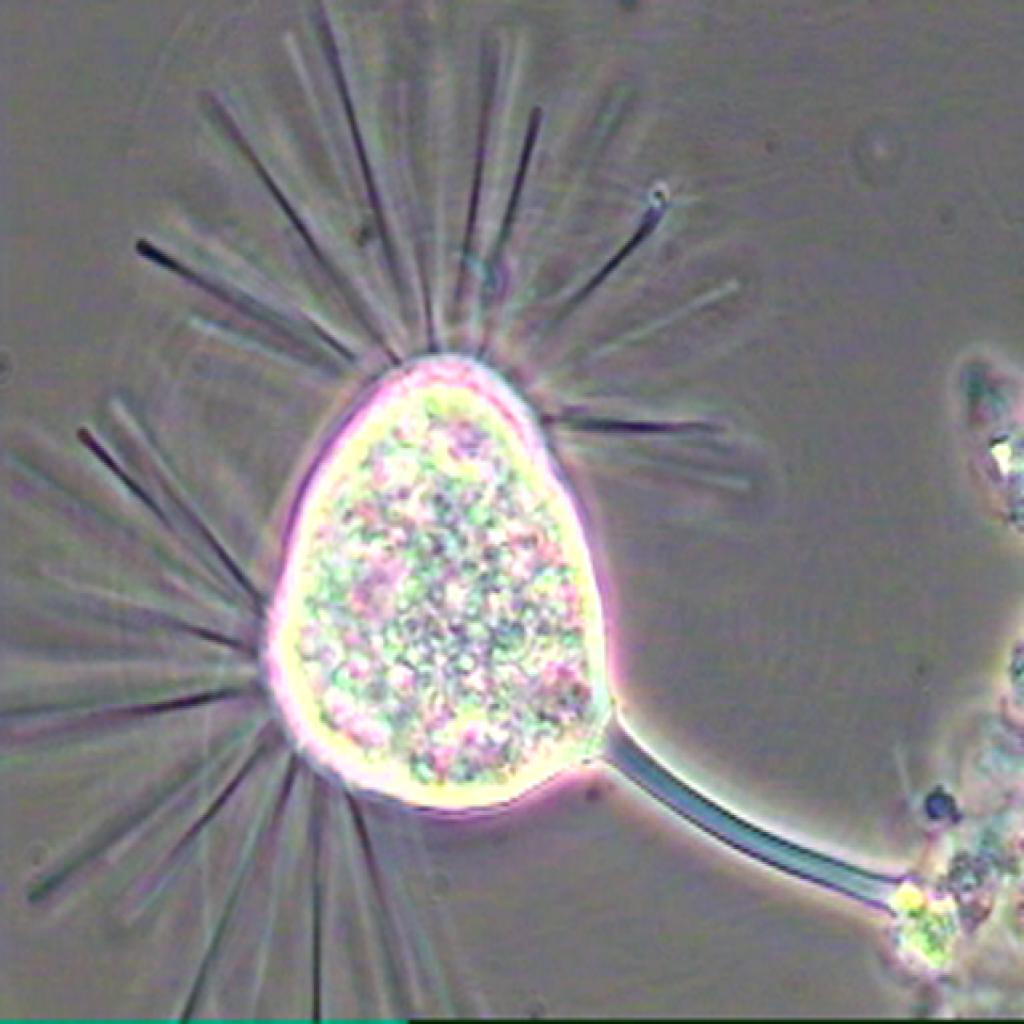Suctorida: (14, 11, 902, 1011)
